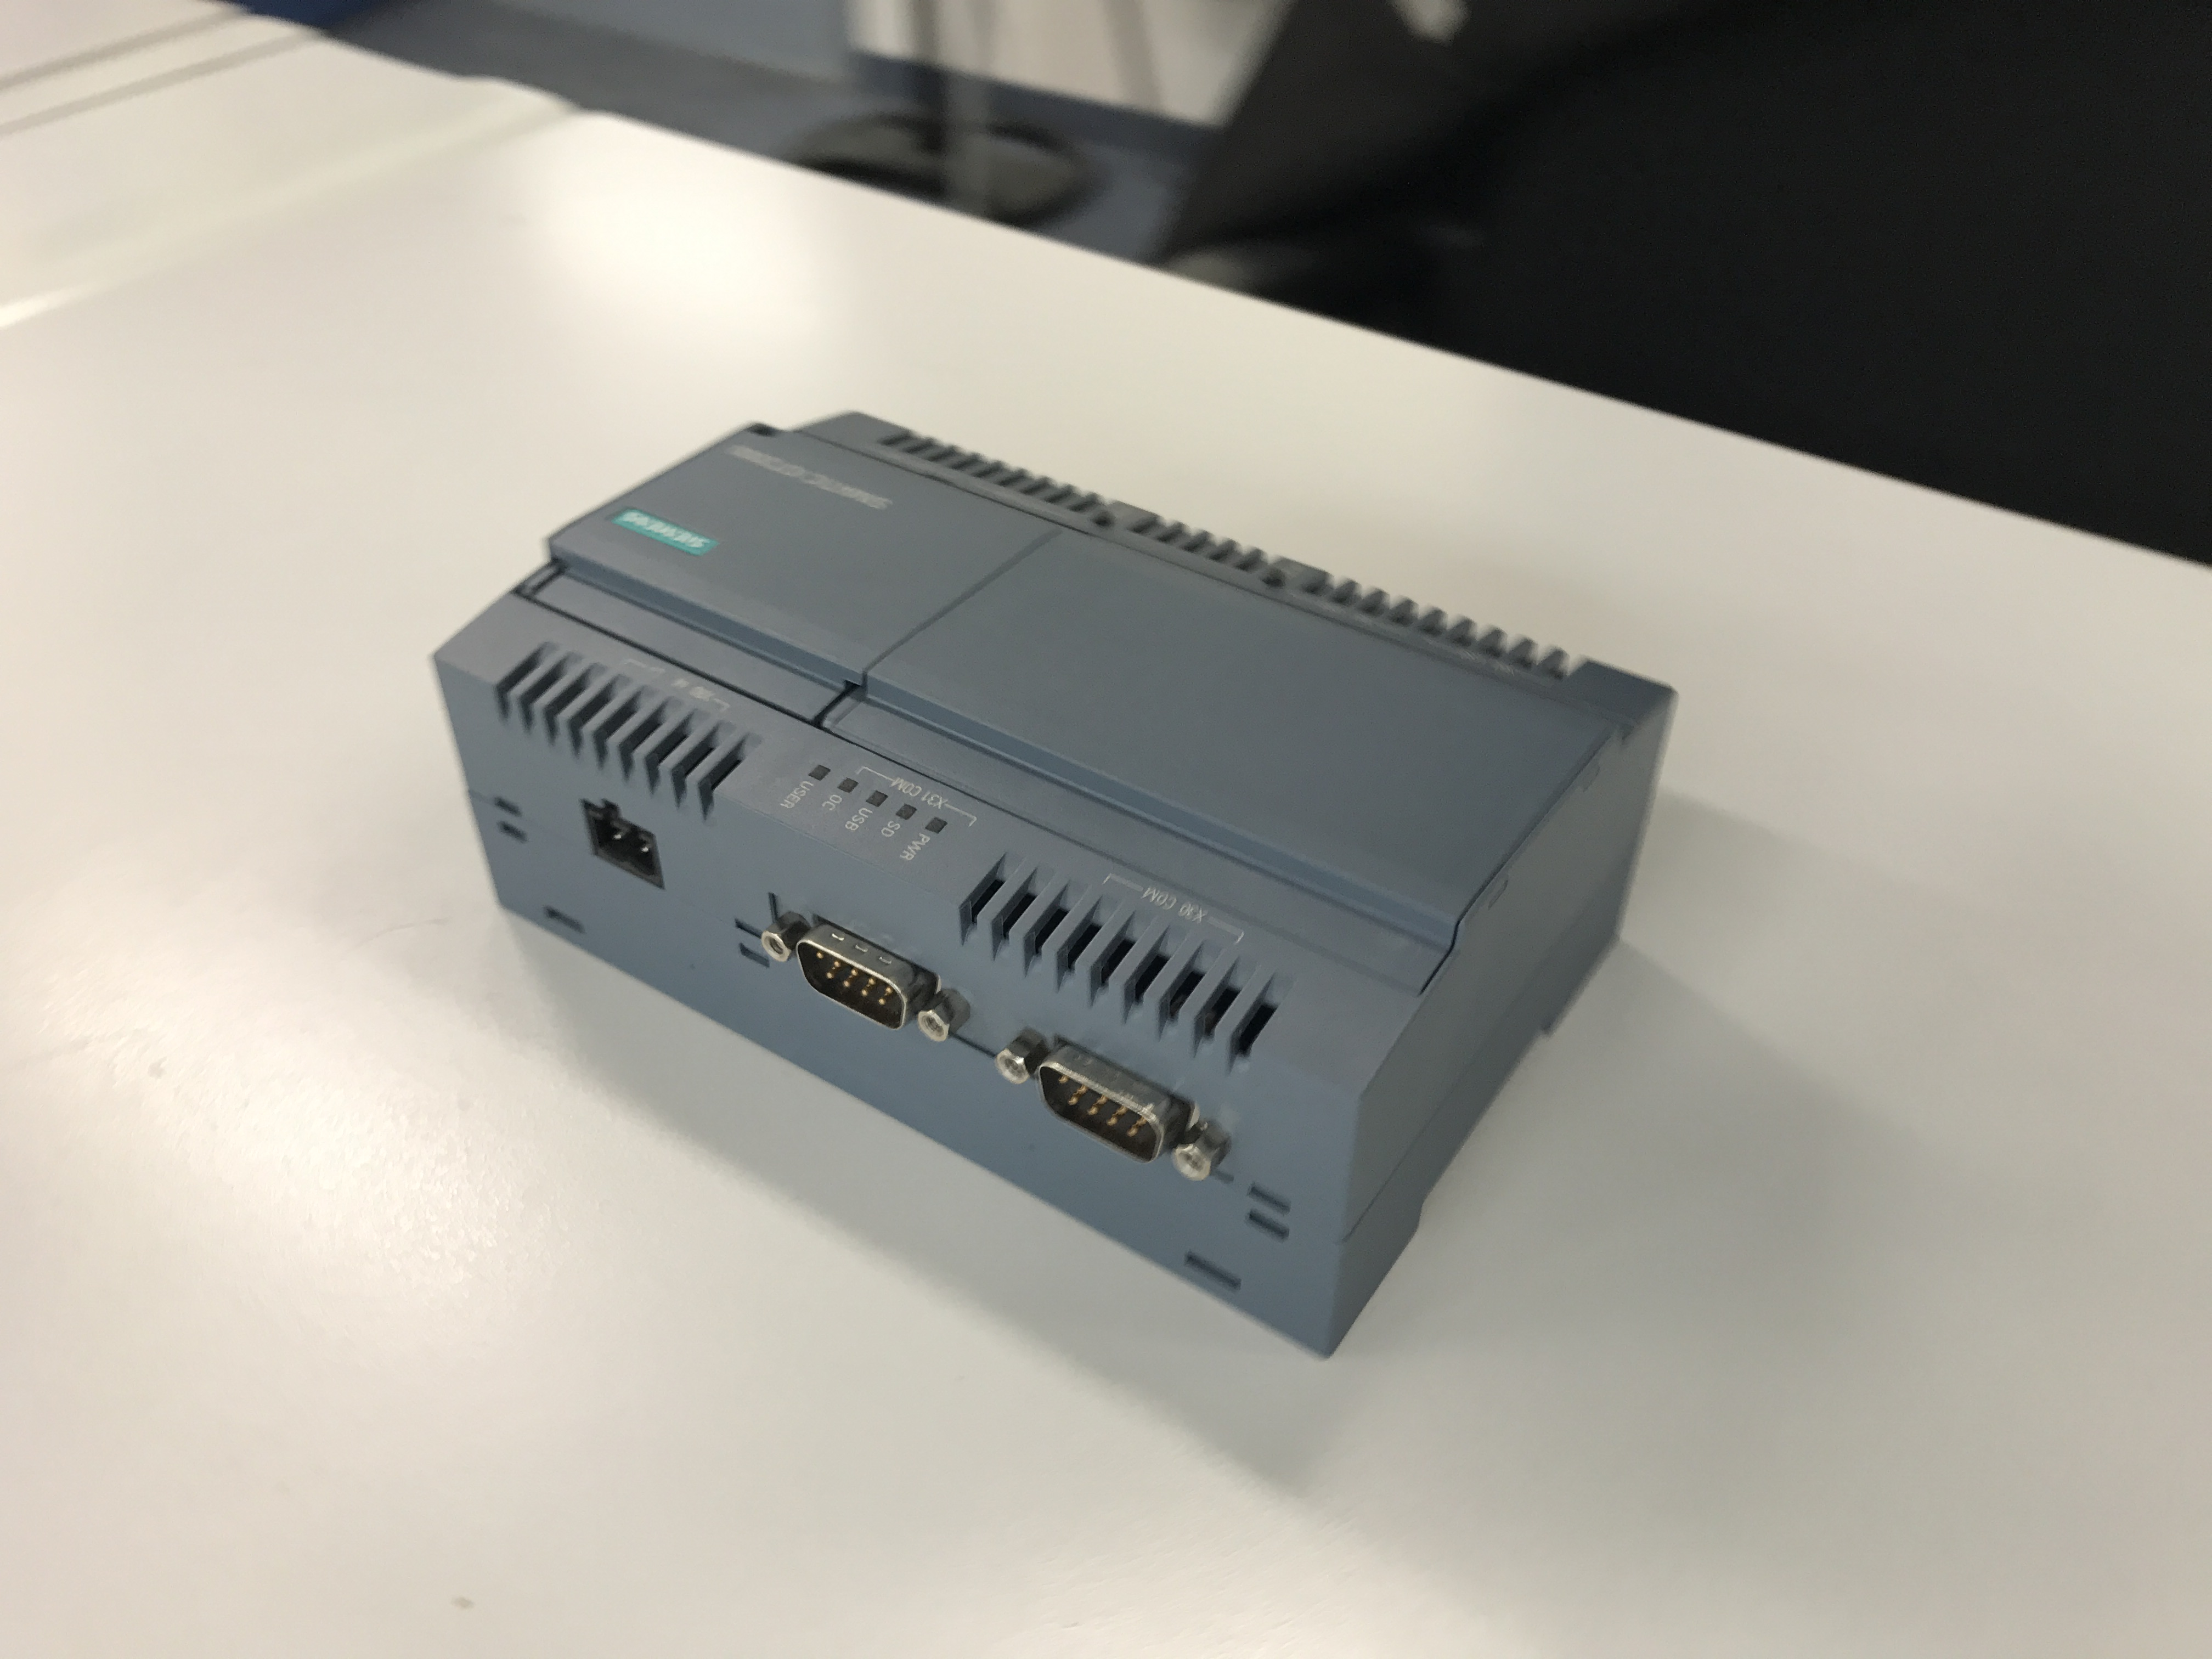device: (430, 408, 1676, 1363)
